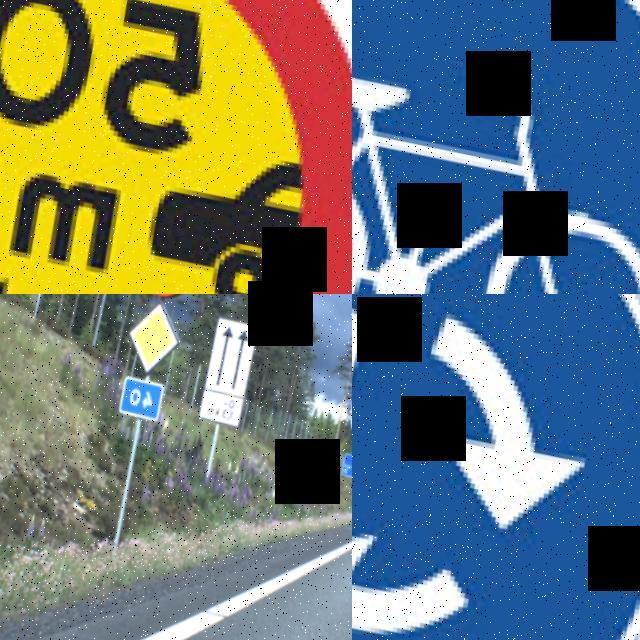16: (352, 294, 640, 640)
172: (108, 370, 168, 428)
181: (193, 390, 243, 430)
5: (331, 450, 352, 491)
50 meters between vehicles: (0, 0, 352, 294)
57: (111, 294, 192, 385)
66: (191, 310, 263, 403)
90: (352, 0, 640, 294)
Roundabout: (352, 294, 640, 640)
